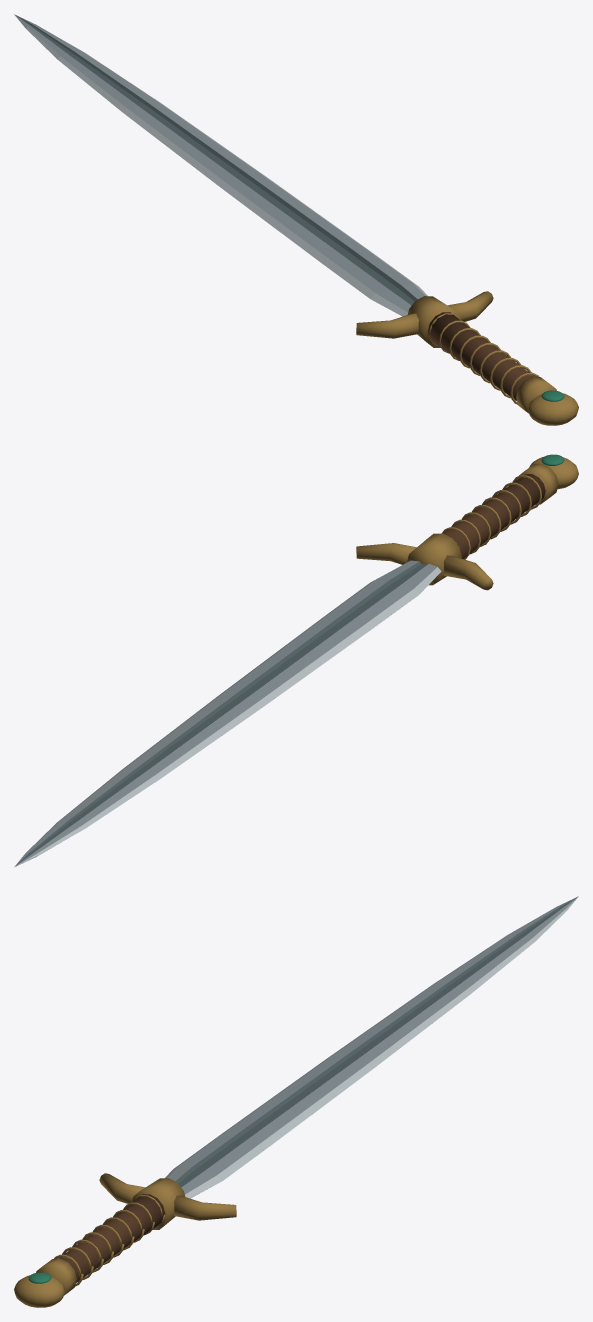
File: wayfarer.glb
3 views of the same model, one above another, from view 1: azimuth 30°, elevation 25°; view 2: azimuth 150°, elevation 25°; view 3: azimuth 330°, elevation 25° (orthographic).
Parts seen in each view (by area): view 1: MV_wayfarer; view 2: MV_wayfarer; view 3: MV_wayfarer.
Part boxes in pixels (box(x1,y1,x2,y2)): MV_wayfarer: box(14, 14, 578, 425); MV_wayfarer: box(14, 454, 578, 867); MV_wayfarer: box(14, 896, 578, 1307).
Bounding box in the file's own units: 0.1944 × 0.054 × 1.35.
